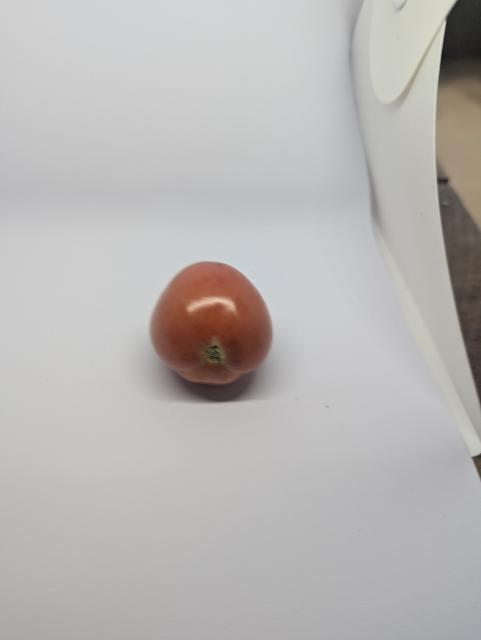red: (135, 245, 301, 402)
